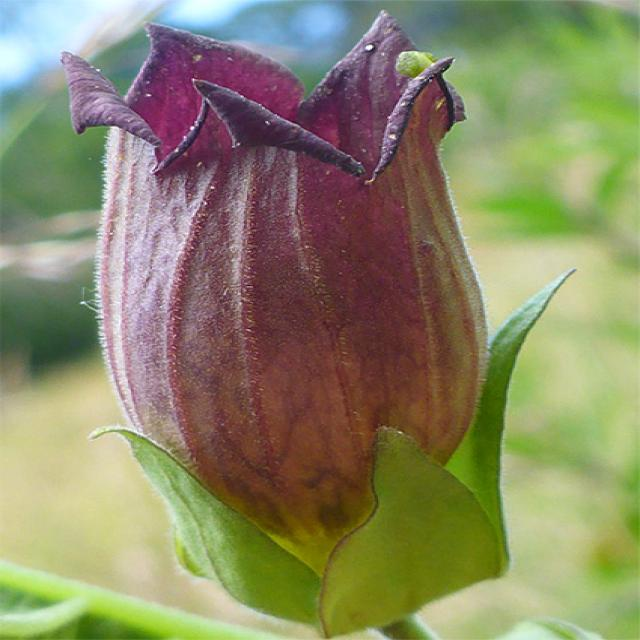Belladonna: (31, 77, 528, 583)
